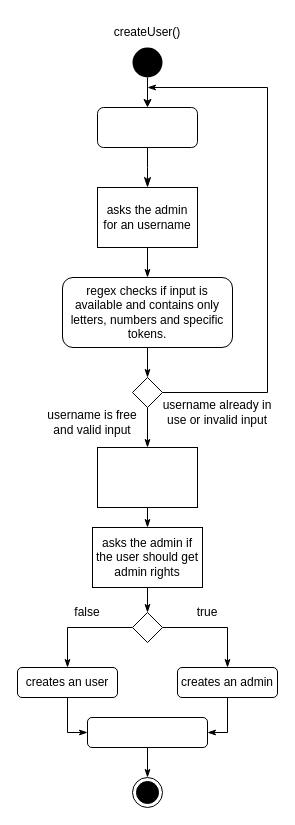
This 295x825 diagram has some shape labels left out. The centre of each missing label's shape, as x and y in pixels:
"asks the admin for a password" goes at [147,477].
"click on create user as admin" goes at [147,127].
"saves it in the json" goes at [147,732].
